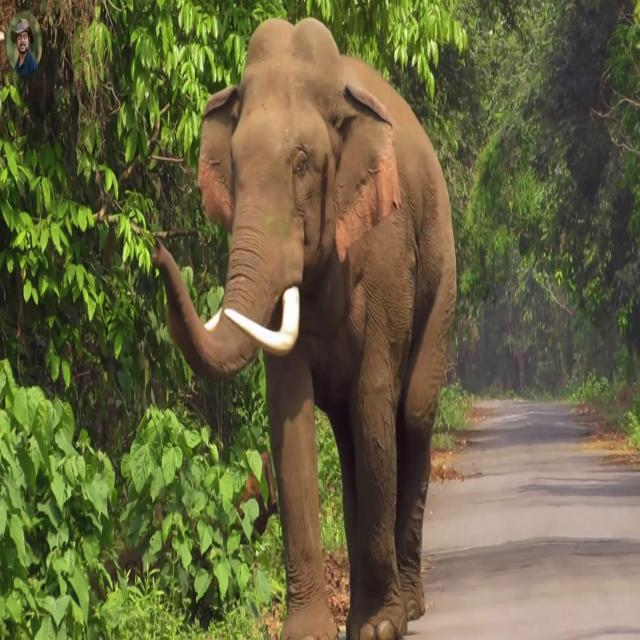Elephant: (150, 16, 458, 639)
